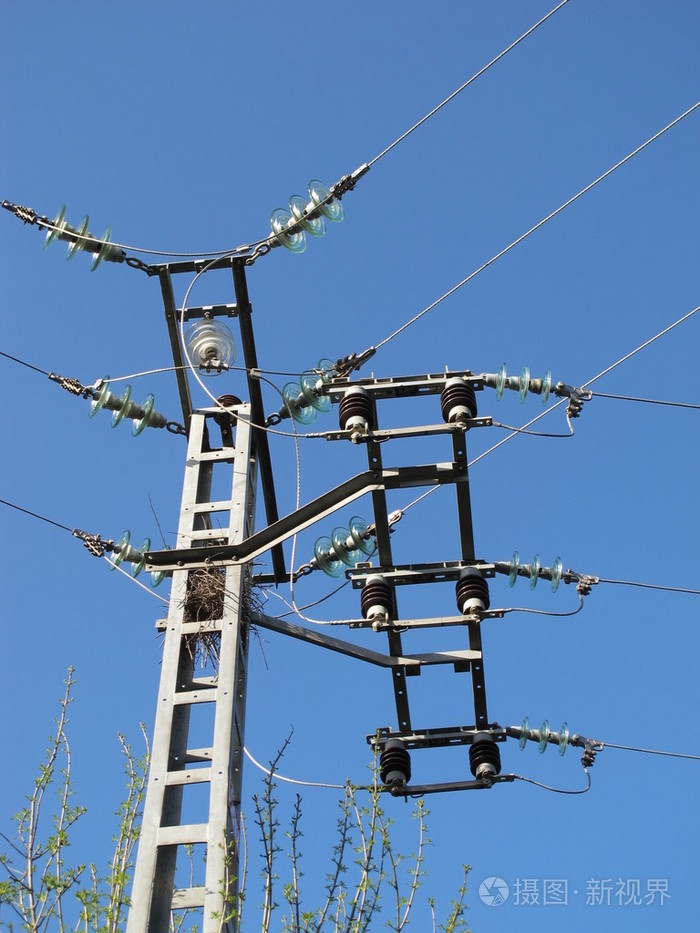insulator: (267, 175, 340, 253), (42, 203, 111, 276), (278, 353, 348, 422), (81, 378, 155, 440), (312, 515, 380, 580), (110, 525, 163, 592), (183, 318, 239, 380), (502, 545, 570, 593), (490, 364, 559, 407), (514, 712, 575, 760)
